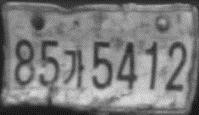1: (143, 40, 159, 91)
2: (163, 39, 187, 91)
4: (114, 41, 138, 90)
5: (90, 41, 112, 89), (38, 39, 60, 86)
8: (13, 38, 34, 86)
가: (62, 49, 85, 88)
